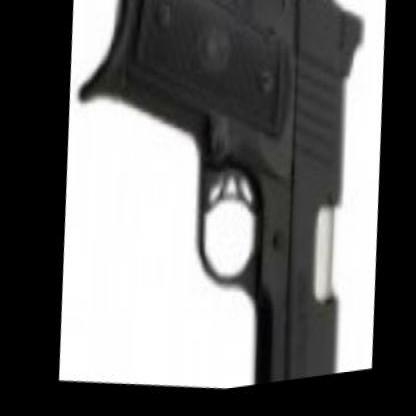pistol: (47, 0, 390, 409)
